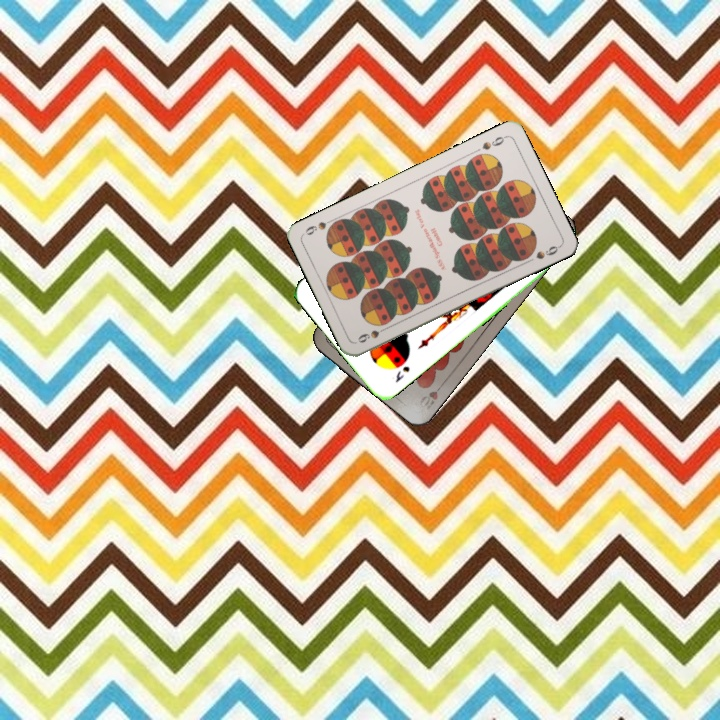H10: (415, 379, 447, 415)
S9: (354, 322, 392, 345), (478, 132, 509, 153)
SK: (391, 362, 412, 385)
